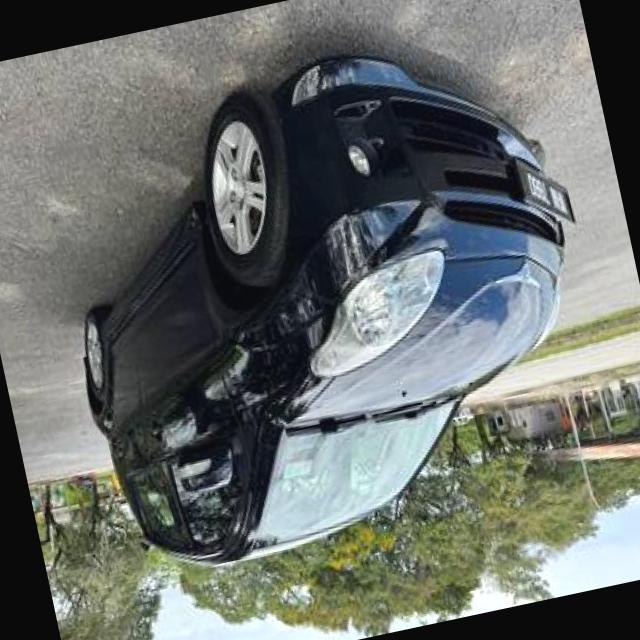PeroduaMyvi: (28, 12, 633, 590)
